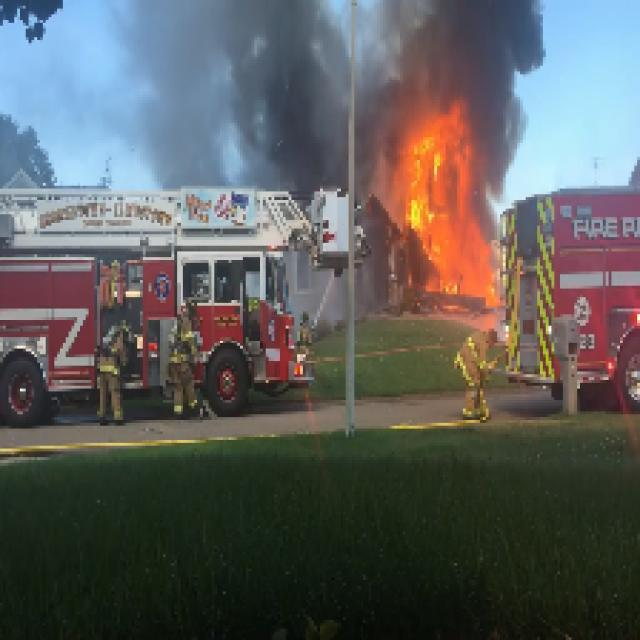Fire: (394, 103, 492, 303)
Smoke: (66, 3, 340, 174), (360, 2, 543, 98)
